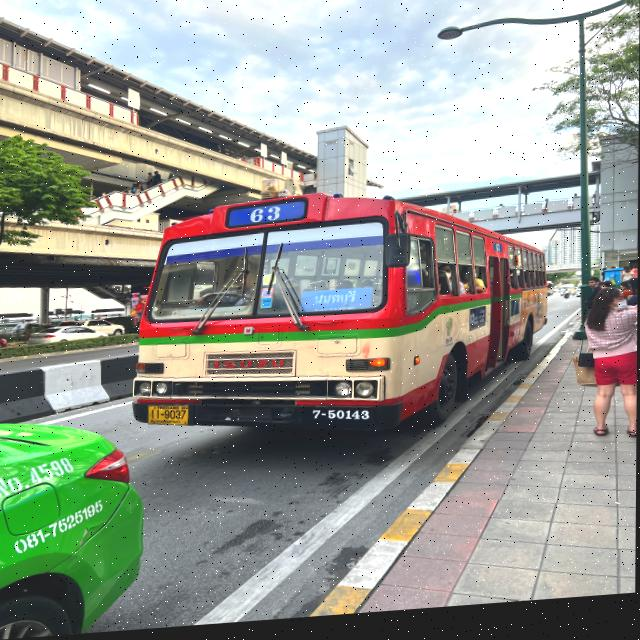BMTA-bus: (129, 184, 551, 455)
Bus-Line-Number: (228, 205, 304, 231)
Destination-Sign-Normal: (301, 291, 372, 319)
